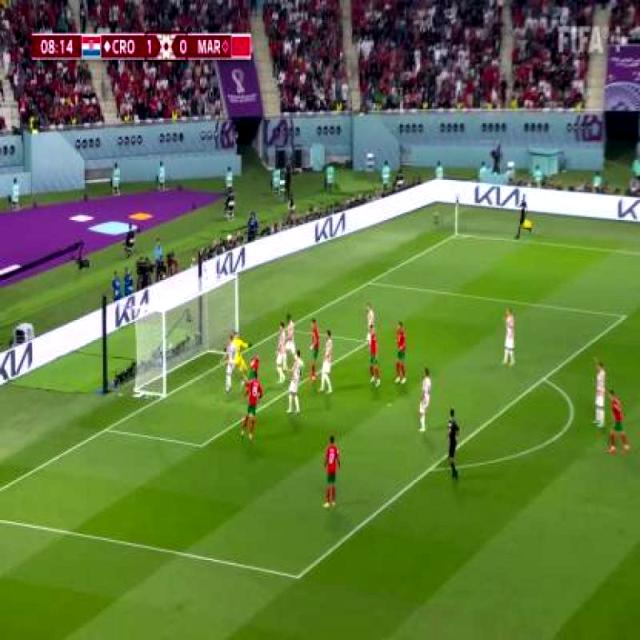bigarea_bottom_inner: (291, 565, 306, 590)
bigarea_top_inner: (620, 308, 632, 326)
bigarea_top_outter: (364, 276, 374, 290)
bottom_arc_area_intersection: (424, 458, 439, 482)
corner: (451, 226, 462, 244)
smallarea_bottom_inner: (197, 436, 210, 458)
smallarea_bottom_outter: (100, 420, 114, 440)
smallarea_top_inner: (363, 335, 369, 350)
top_arc_area_intersection: (539, 368, 551, 389)
